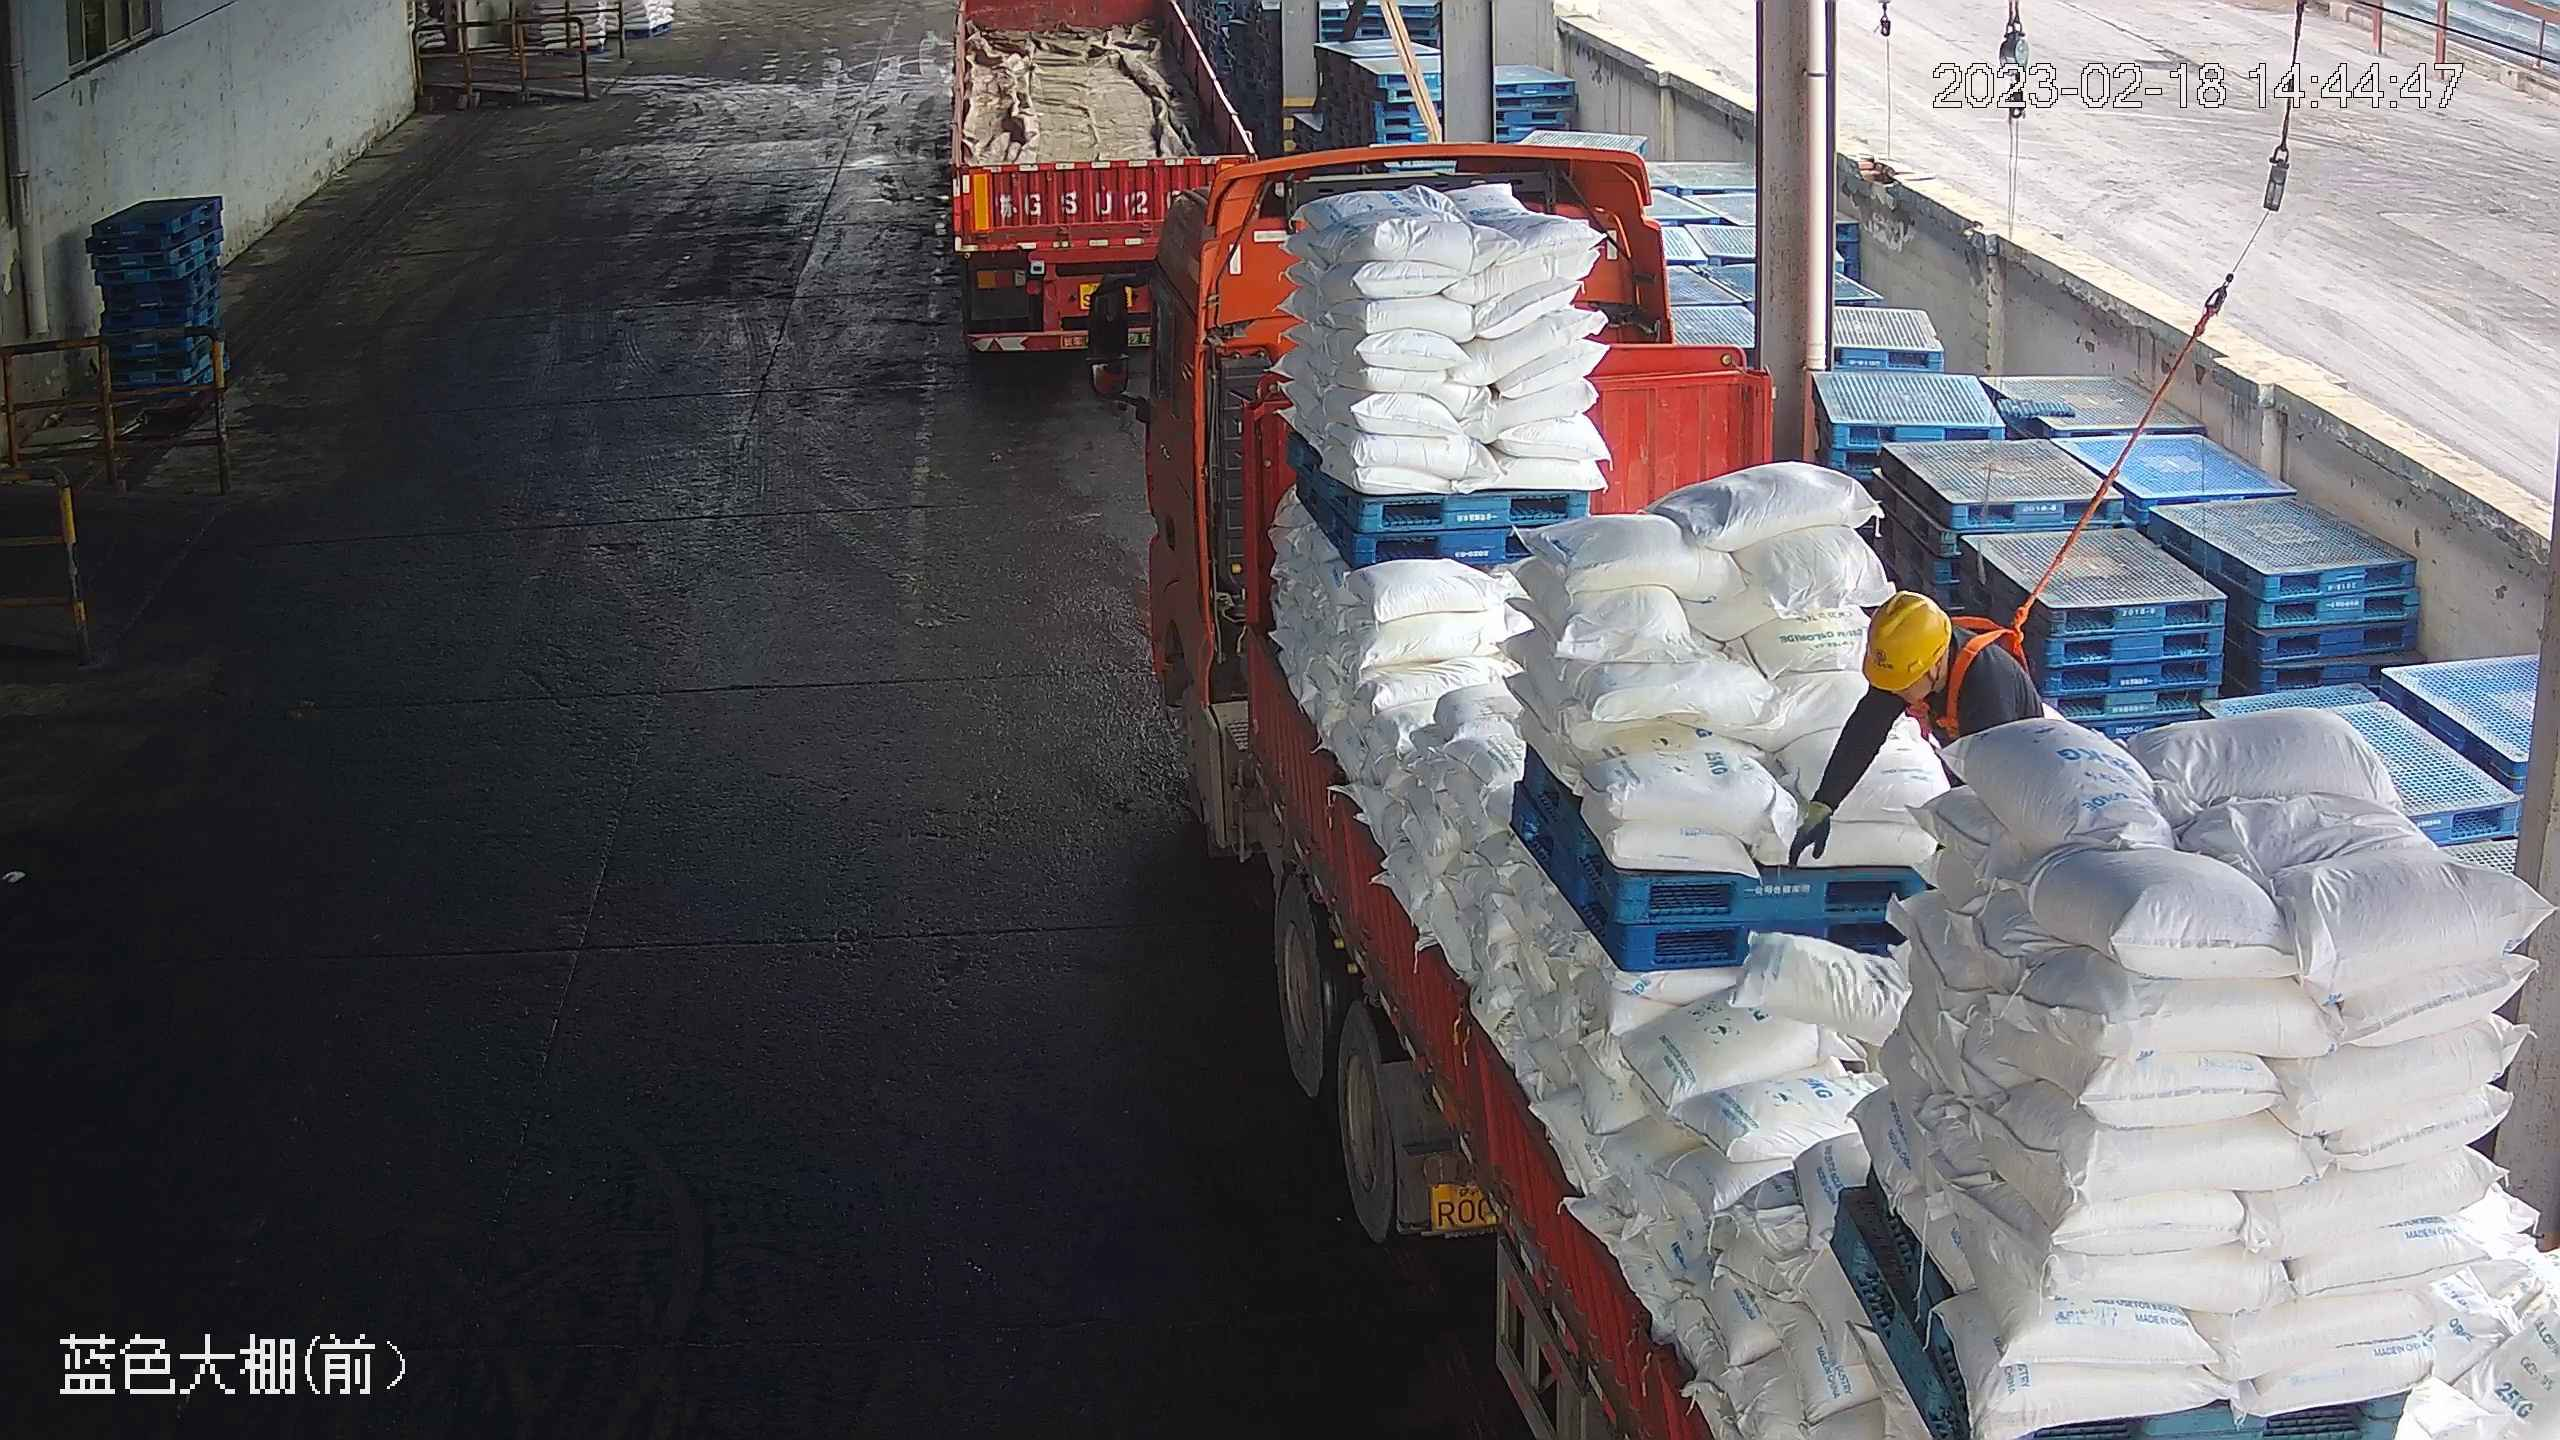belt: (1919, 613, 2034, 743)
head: (1860, 593, 2014, 721)
helmet: (1860, 590, 1955, 697)
people: (1787, 589, 2044, 863)
truck: (1083, 135, 2553, 1436), (948, 2, 1261, 355)
